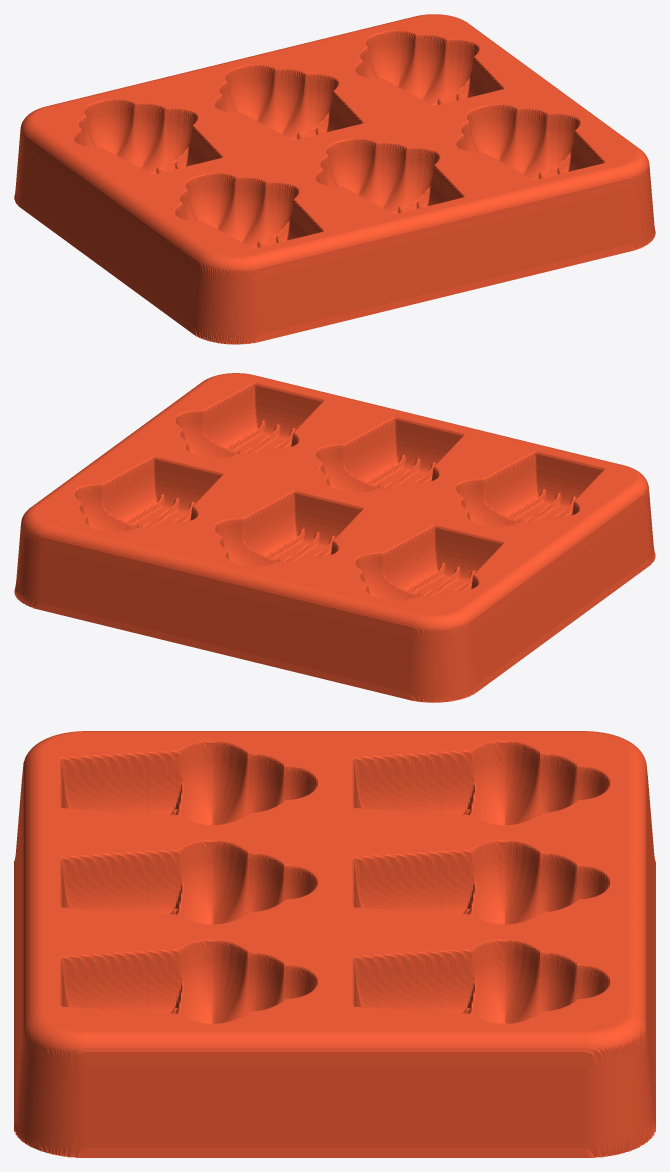
Rendered from mold.glb.
The picture shows the model from 3 angles, top to bottom: view 1: azimuth 30°, elevation 25°; view 2: azimuth 150°, elevation 25°; view 3: azimuth 270°, elevation 25°; orthographic projection. The views are drawn at different scales.
Parts seen in each view (by area): view 1: geometry_0; view 2: geometry_0; view 3: geometry_0.
Part boxes in pixels (<box>): geometry_0: <box>14,14,655,344</box>; geometry_0: <box>14,373,655,702</box>; geometry_0: <box>14,731,655,1157</box>.
Size of the model in its own units: 0.096 by 0.0159 by 0.0808.
